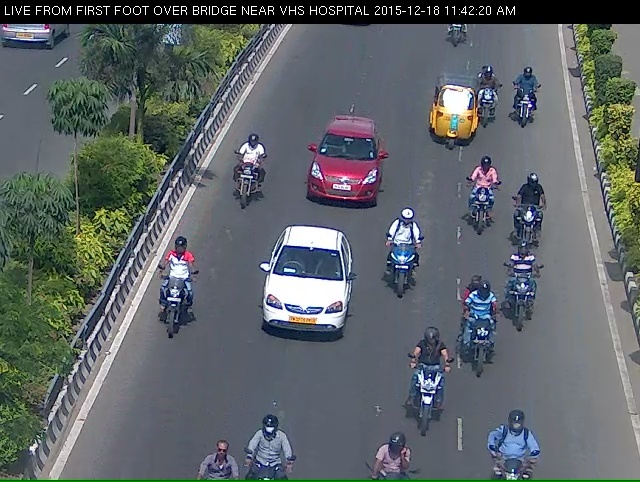Auto: (427, 83, 478, 162)
Car: (251, 240, 356, 372), (314, 124, 380, 225)
Person: (455, 309, 497, 410), (410, 353, 449, 457), (384, 235, 429, 322), (149, 267, 186, 362), (223, 152, 261, 224), (505, 284, 542, 350), (464, 191, 494, 252), (518, 84, 547, 140), (517, 204, 537, 268), (479, 78, 498, 140)
